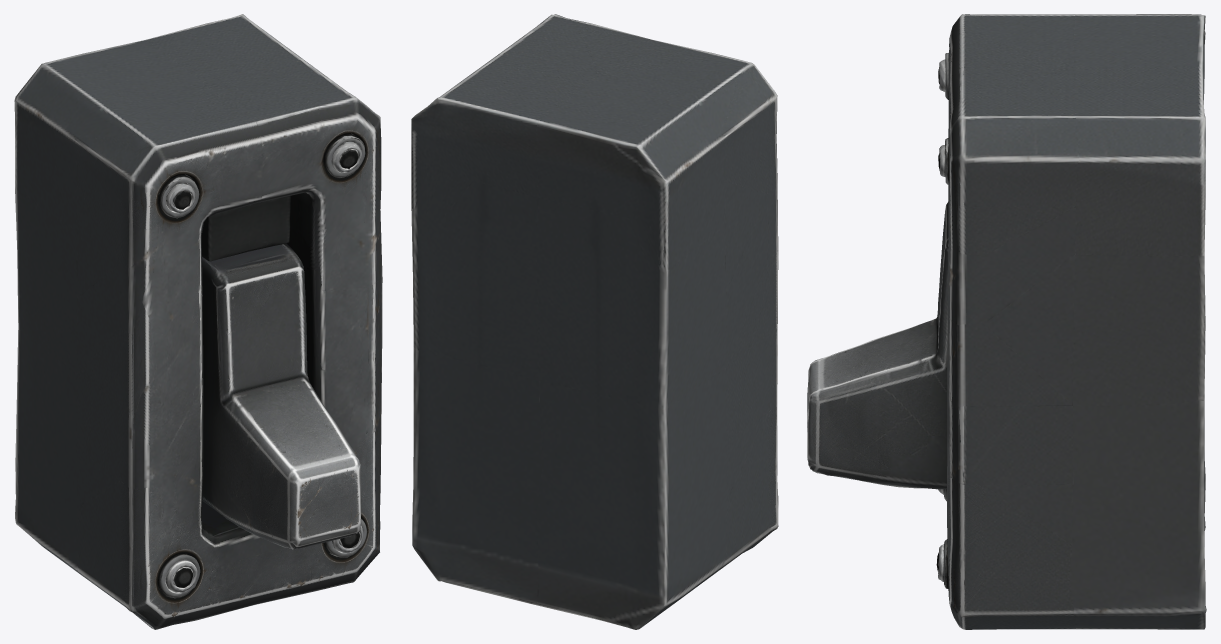
File: Switch.glb
3 renders of one model, left to right at view 1: azimuth 30°, elevation 25°; view 2: azimuth 150°, elevation 25°; view 3: azimuth 270°, elevation 25°, orthographic. The views are drawn at different scales.
Bounding box in the file's own units: 0.5508 × 1 × 0.707.
1 material, 1 textured.
